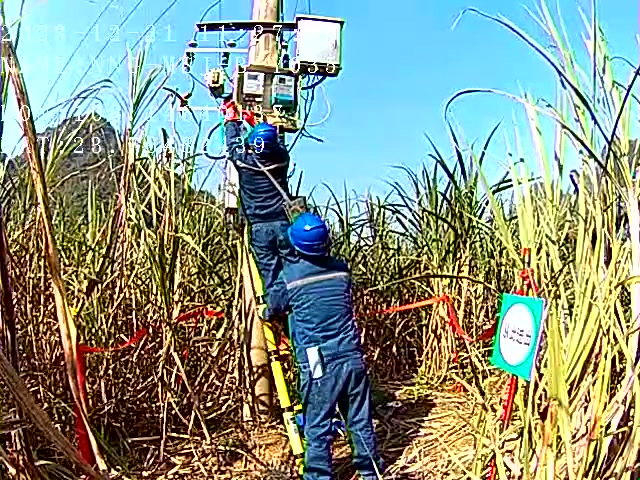downsuit: (304, 364, 380, 480)
halt: (288, 213, 333, 255), (246, 119, 280, 148)
intosign: (486, 290, 546, 382)
longglove: (220, 98, 242, 126)
person: (266, 211, 386, 480), (224, 117, 292, 267)
upsuit: (275, 260, 364, 356), (227, 122, 289, 206)
